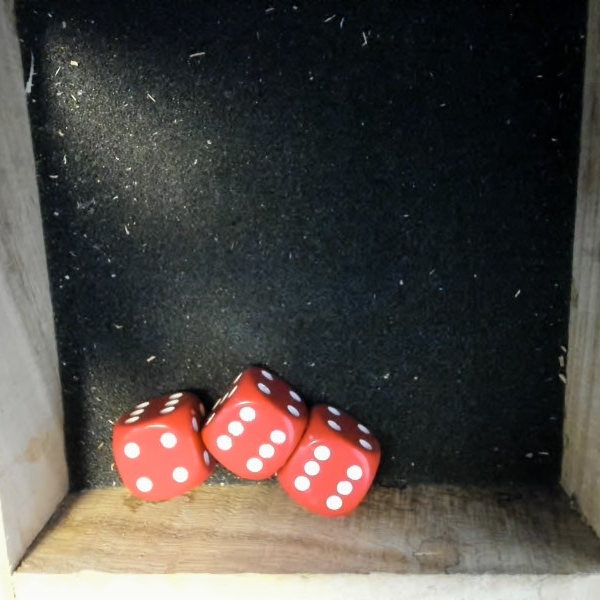red_die_pip4: (102, 387, 219, 504)
red_die_pip6: (187, 355, 319, 490), (271, 392, 400, 530)
